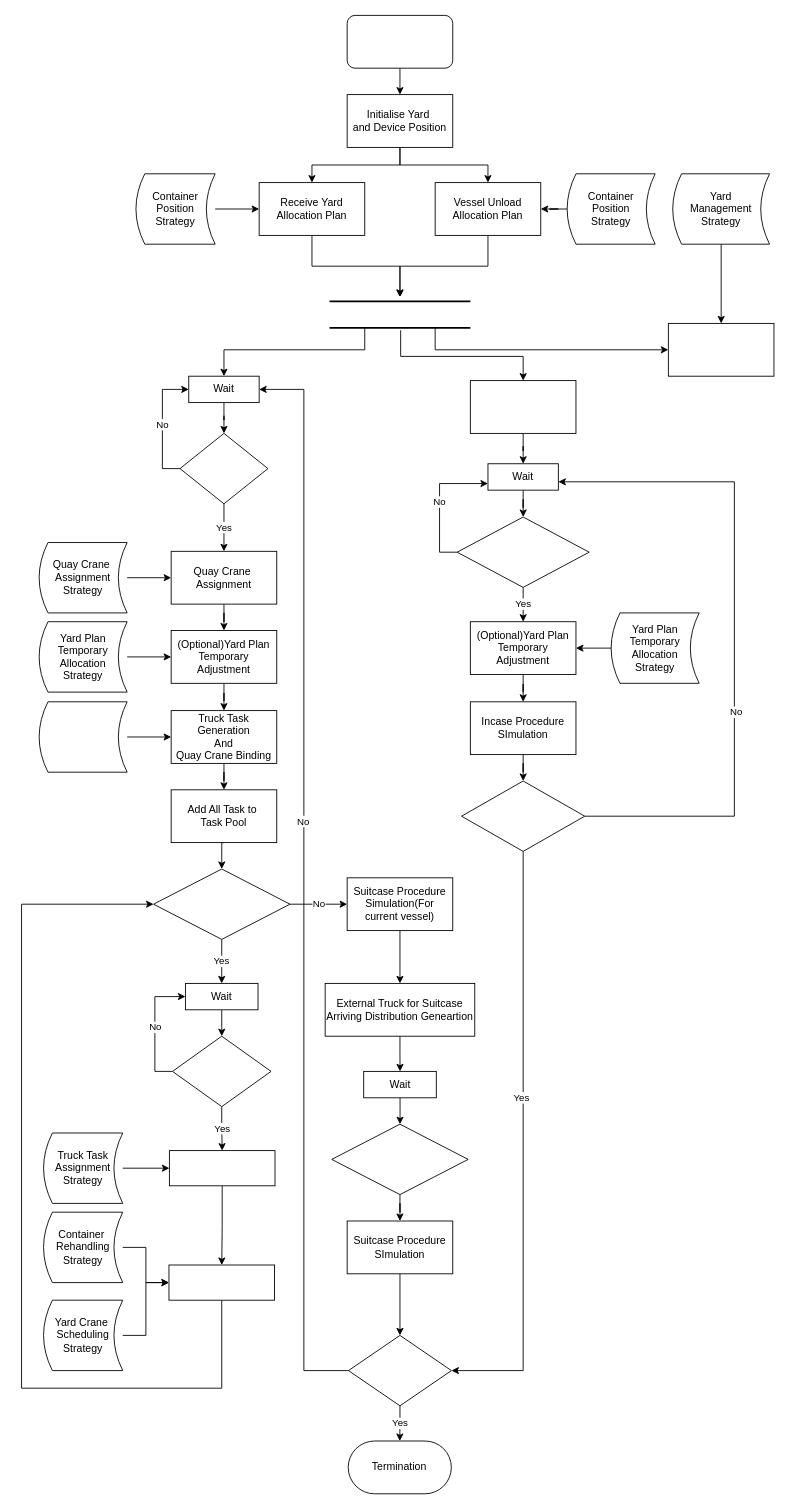
Image size: 789x1509. Some labels were removed from this diagram. The shapes that lost their labels are listed below. From the top down, each one's centre as x and y in pixels, then its label:
the point at 399,41: Start
the point at 720,349: Non-peak Period Yard Reallocation
the point at 522,406: External Incase Truck Arriving Distribution Generation
the point at 223,468: Is Vessel Arrived?
the point at 522,551: Any Exteranl Truck Arrived?
the point at 82,736: Quay Crane Scheduing Strategy
the point at 523,815: Is All External Truck Arrived?
the point at 221,903: Any Remaining Task For Current Vessel?
the point at 221,1071: Any Free Truck?
the point at 222,1168: Truck Task Assignment
the point at 399,1159: Any External Truck Arrived?
the point at 221,1282: Truck Transportation
the point at 399,1370: Is All Vessel Arrived?
